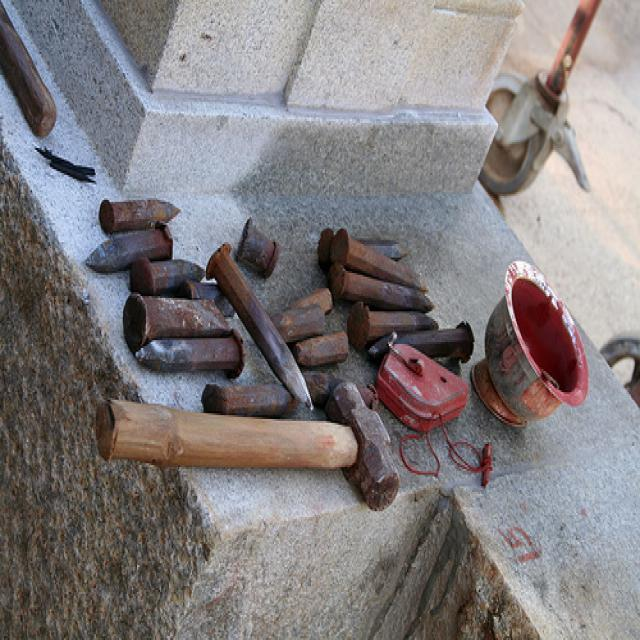hammer: (88, 372, 405, 522)
